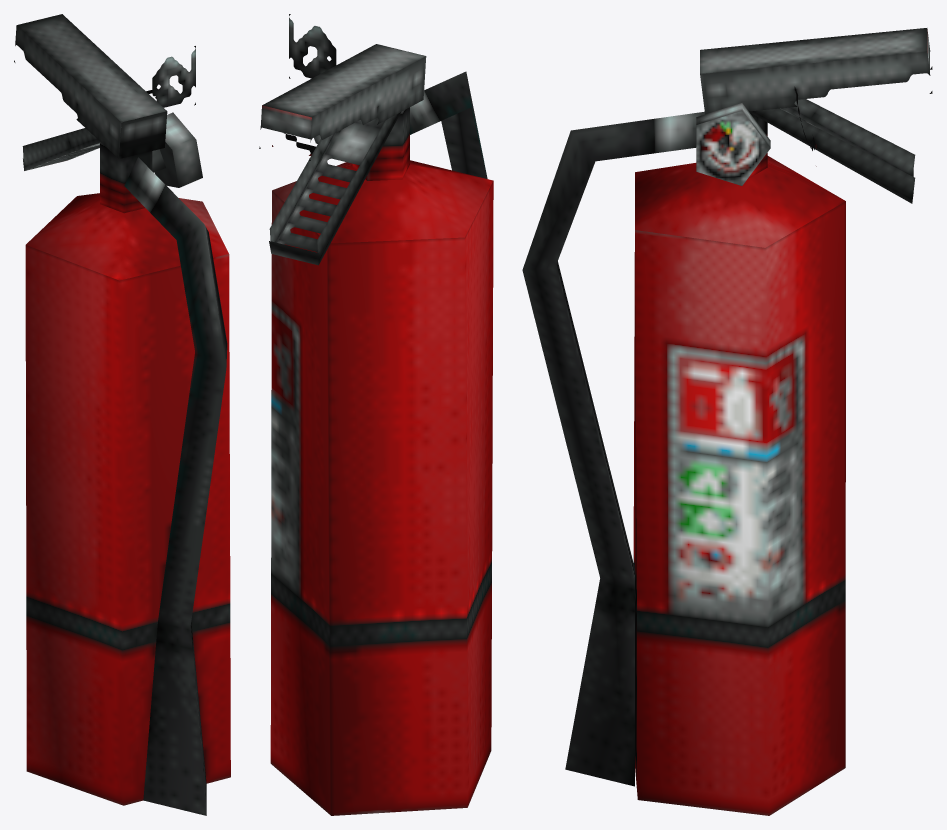
The model's file is Extintor.fbx.
3 views of the same model, side by side, from view 1: azimuth 30°, elevation 25°; view 2: azimuth 150°, elevation 25°; view 3: azimuth 270°, elevation 25° (orthographic). The views are drawn at different scales.
Parts seen in each view (by area): view 1: FireExtinguisher, Handle; view 2: FireExtinguisher, Handle; view 3: FireExtinguisher, Handle.
Boxes of the visible parts, x1,y1,x2,y2 form: FireExtinguisher: [25, 111, 230, 815]; Handle: [14, 14, 195, 170]; FireExtinguisher: [270, 57, 493, 815]; Handle: [259, 14, 426, 265]; FireExtinguisher: [522, 77, 845, 815]; Handle: [700, 28, 932, 203].
Size of the model in its own units: 44.4 by 164 by 81.86.
Materials: 1 (1 with a texture image).
